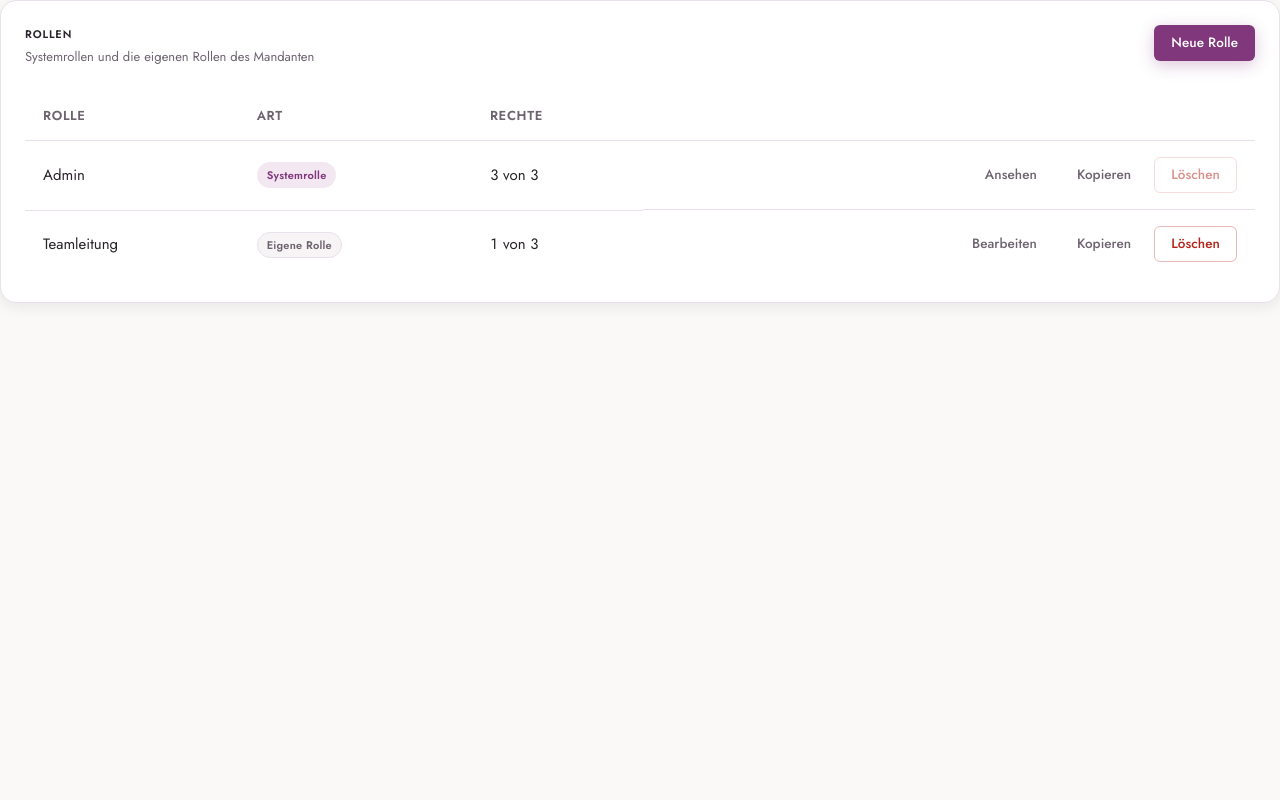
Scenario: RolesTab (Issue #83) › only a group with MANDANT permissions carries the tenant-scope chip (D-03)
The image size is (1280, 800).
Check: the text "Teamleitung" is shown, box [25,210,239,278]
Click the button "Neue Rolle".
click(1205, 43)  # box [1154,25,1255,61]
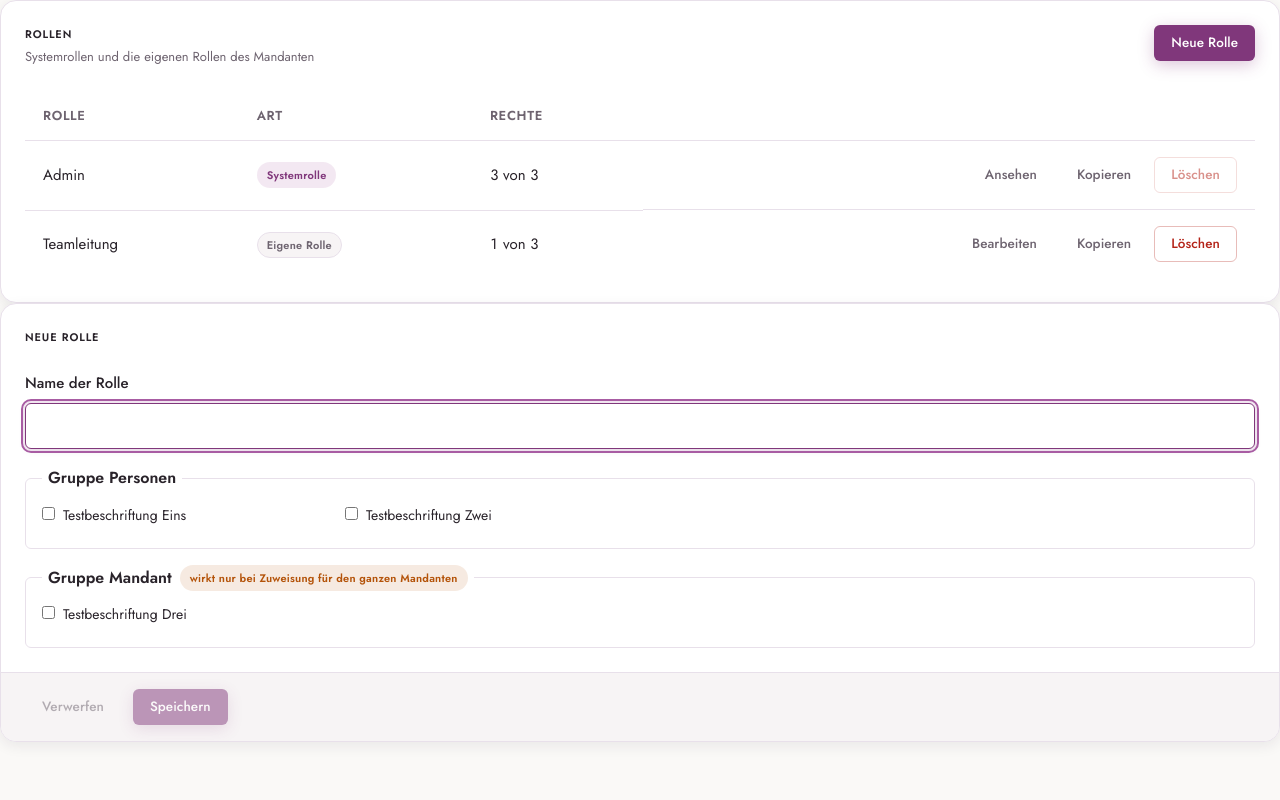
Check: the text "wirkt nur bei Zuweisung für den ganzen Mandanten" is shown once, box [180,565,468,591]
Check: the text "wirkt nur bei Zuweisung für den ganzen Mandanten" shows "Gruppe Mandant", box [48,566,172,588]
